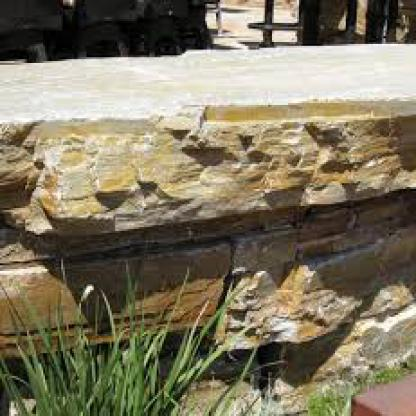Metamorphic_Quartize: (22, 116, 414, 208), (245, 244, 414, 342)
